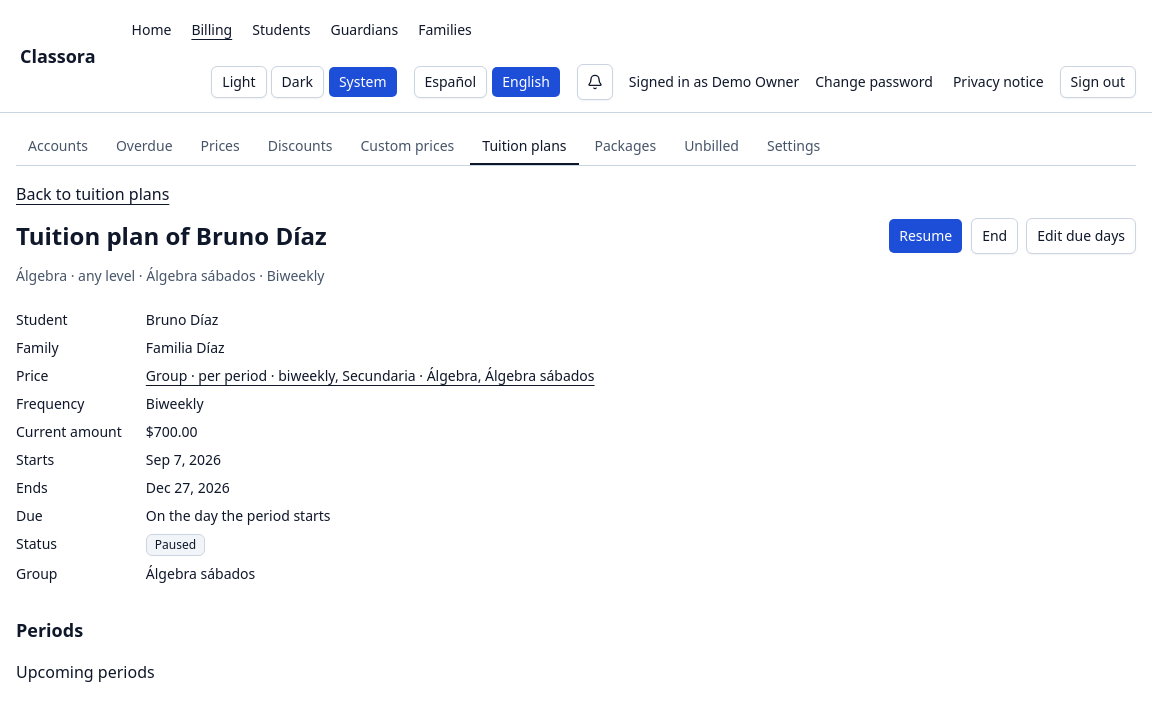
Test: the actions (E4) › resumes the open pause from a chosen period
The image size is (1152, 710).
Click the button "Resume" at (926, 236), box [888,218,963,254]
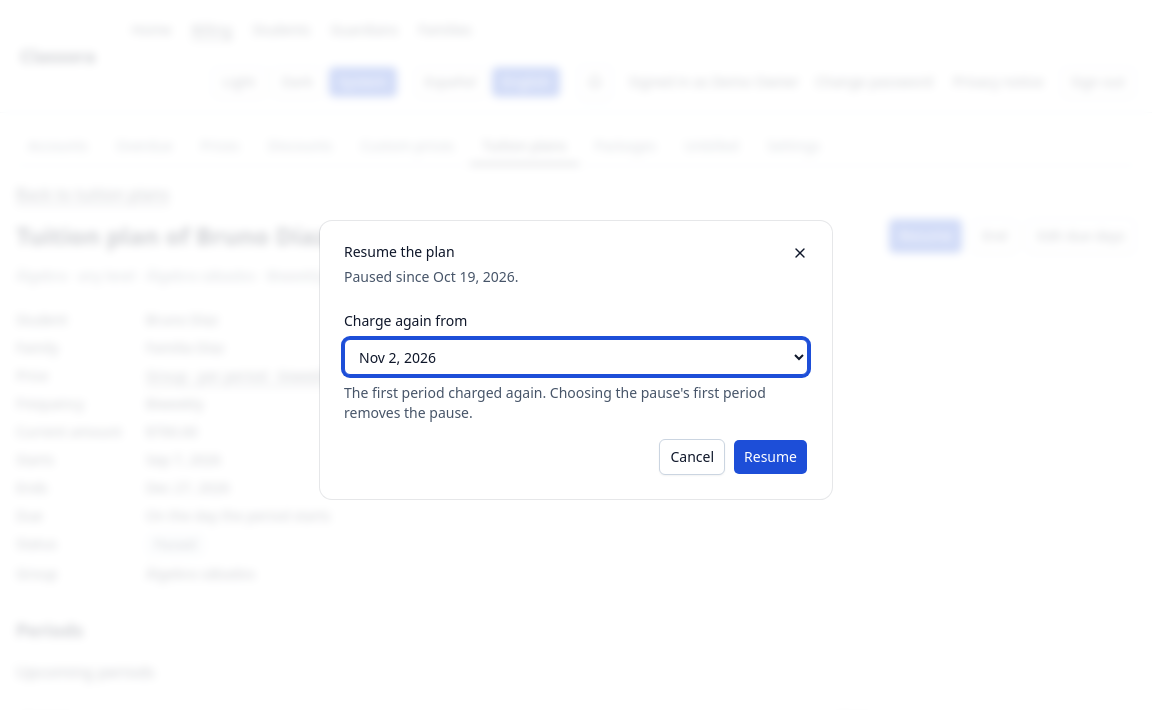
Now the dialog shows "Paused since Oct 19, 2026.", box [344,267,519,286]
Click the button "Resume" at (770, 457), box [733,439,808,475]
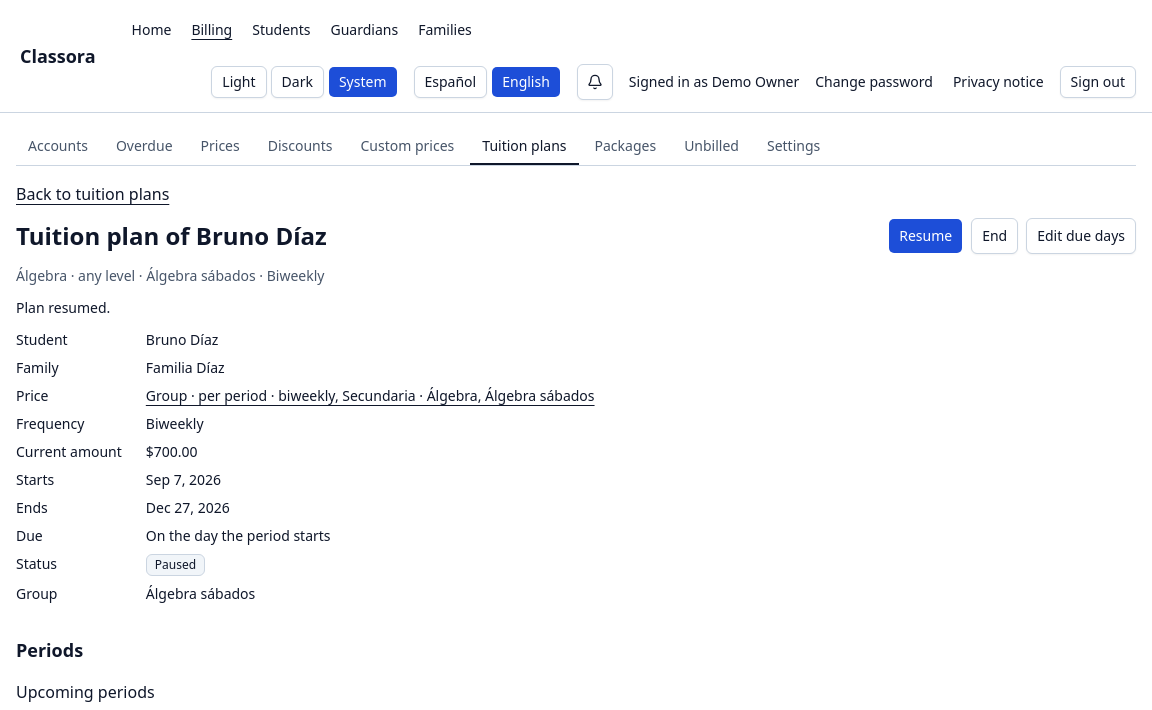
Now the message "Plan resumed." is shown, box [16,298,110,317]
